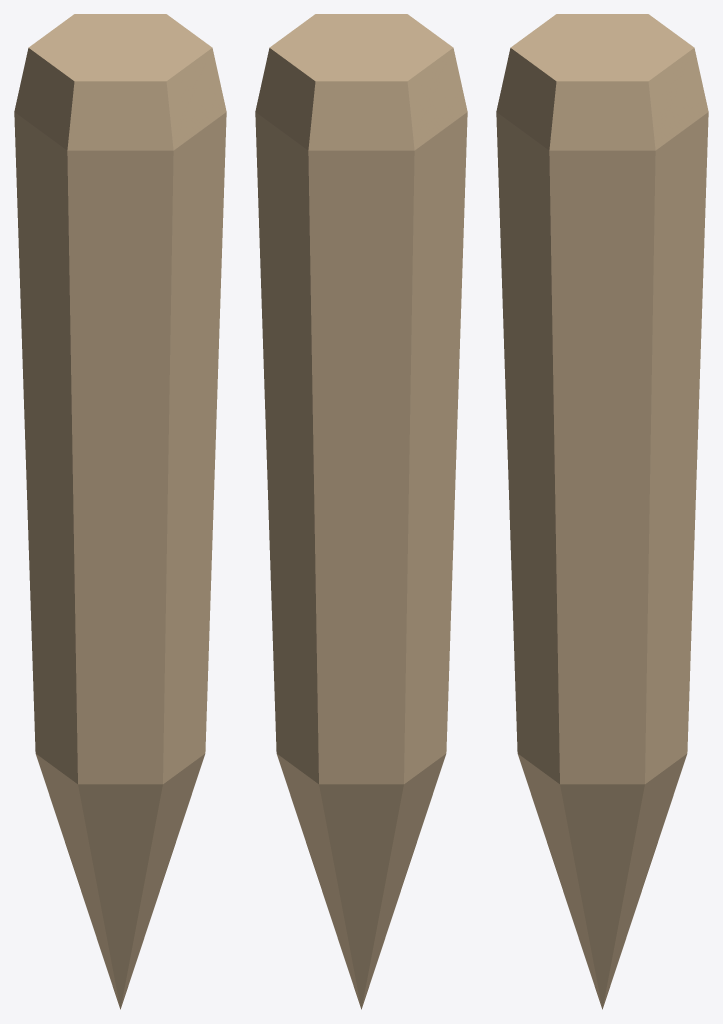
The model's file is prop-mesh-stretch-peg-sm1.fbx.
3 views of the same model, side by side, from view 1: azimuth 30°, elevation 25°; view 2: azimuth 150°, elevation 25°; view 3: azimuth 270°, elevation 25° (orthographic).
Visible parts, largest first — view 1: prop-mesh-stretch-peg-sm1; view 2: prop-mesh-stretch-peg-sm1; view 3: prop-mesh-stretch-peg-sm1.
Boxes of the visible parts, x1,y1,x2,y2 form: prop-mesh-stretch-peg-sm1: (14,14,226,1009); prop-mesh-stretch-peg-sm1: (255,14,467,1009); prop-mesh-stretch-peg-sm1: (496,14,708,1009).
Size of the model in its own units: 1.3 by 7.5 by 1.5.
